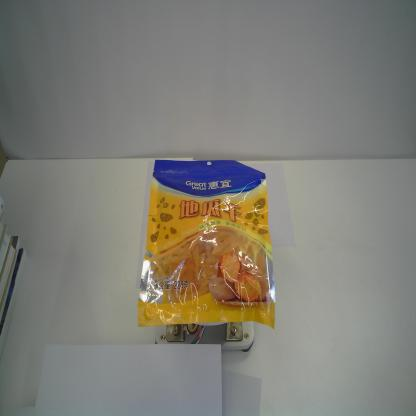Dried Fruit: (136, 158, 276, 331)
